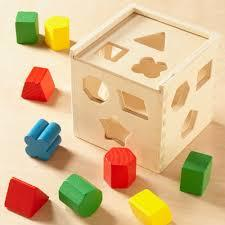cube: (73, 7, 216, 166)
